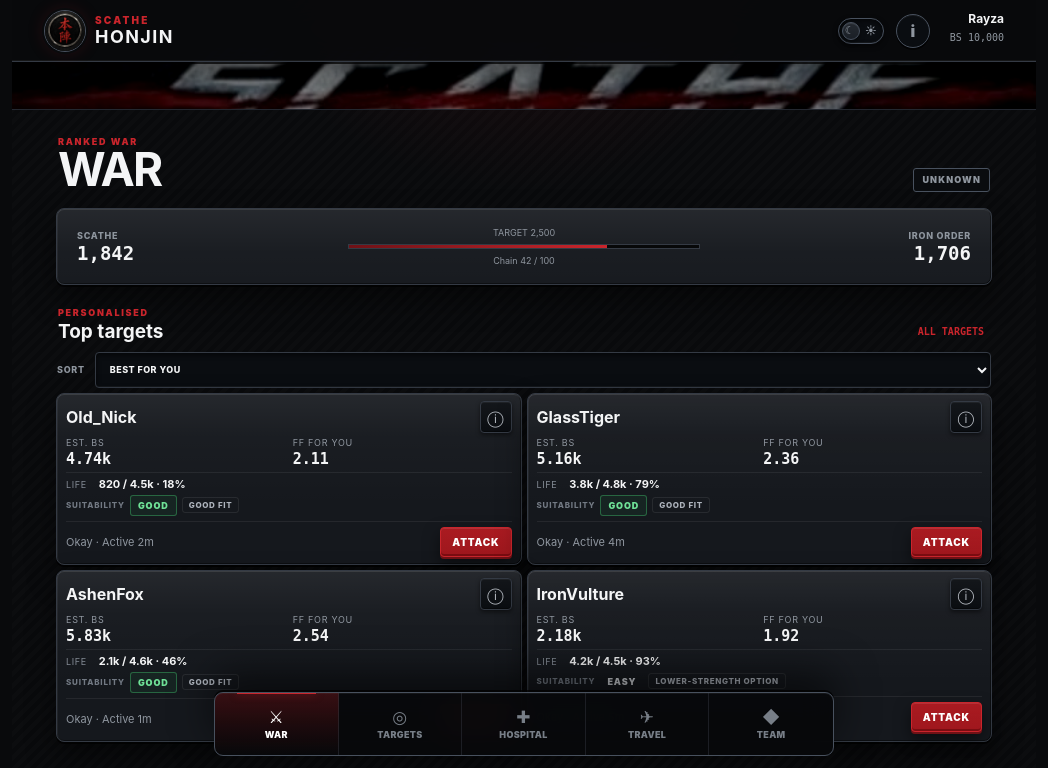
Test: live Hospital shell › defaults to WAR TARGETS ONLY during an active war and can explicitly include Spy targets
Click the button "✚ HOSPITAL": (524, 724) [462, 693, 586, 755]
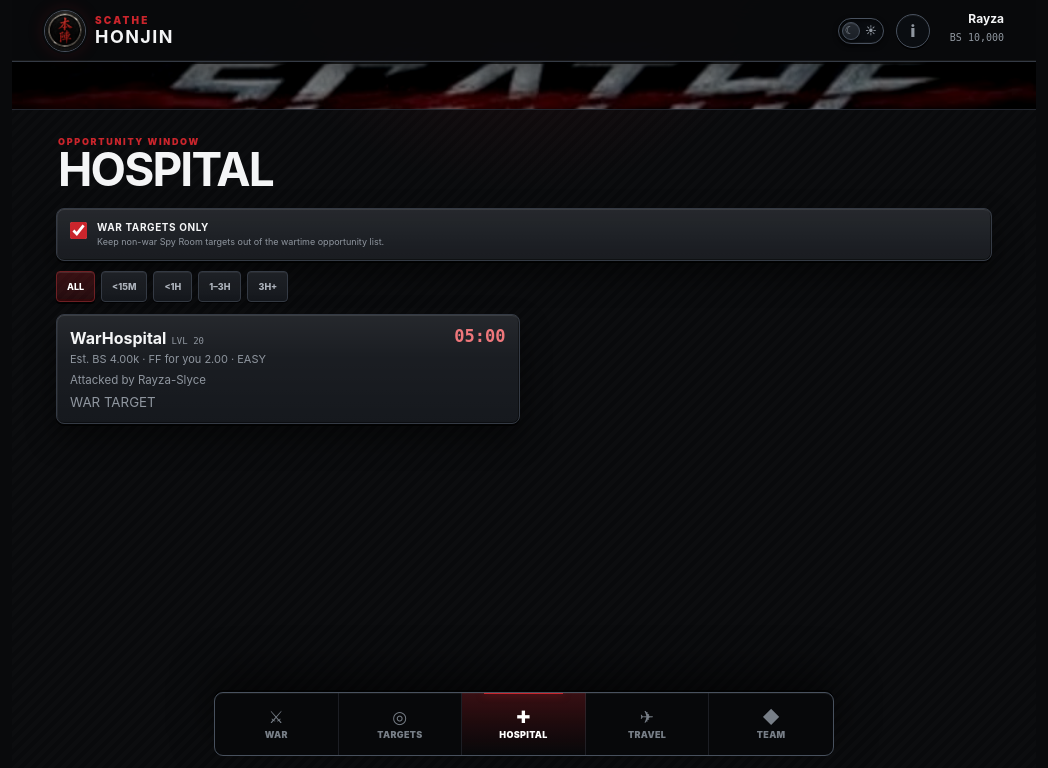
Check: the checkbox labelled "WAR TARGETS ONLY" is checked
Check: the text "WarHospital" is shown, box [70, 328, 166, 348]
Check: the text "LVL 20" is shown, box [172, 336, 204, 346]
Click the checkbox labelled "WAR TARGETS ONLY": (78, 230) [70, 222, 87, 239]
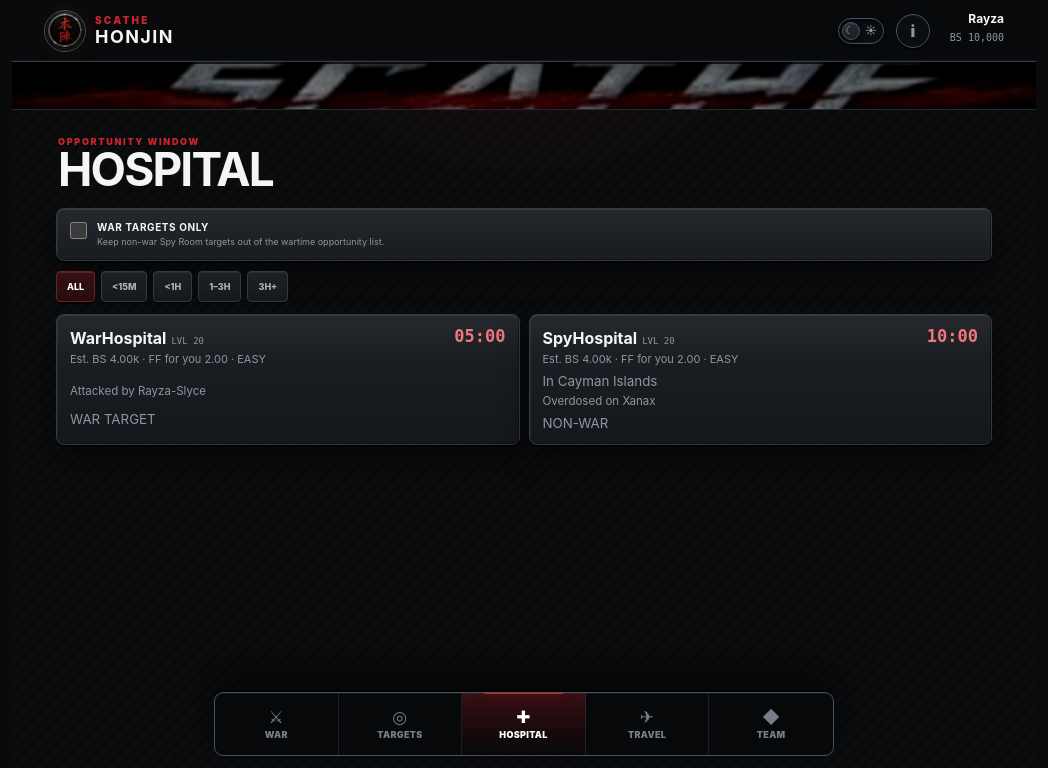
Check: the text "SpyHospital" is shown, box [542, 328, 637, 348]
Check: the text "NON-WAR" is shown, box [542, 415, 608, 431]
